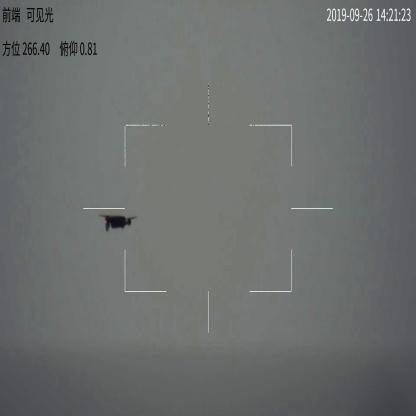uav: (98, 208, 141, 235)
